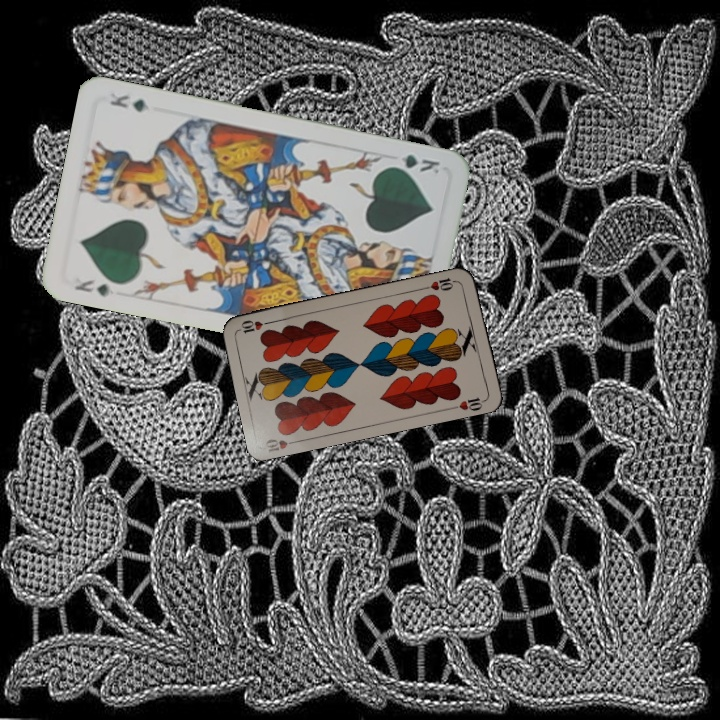GK: (384, 150, 442, 177), (70, 275, 116, 299)
H10: (420, 273, 461, 293), (261, 435, 302, 455)
